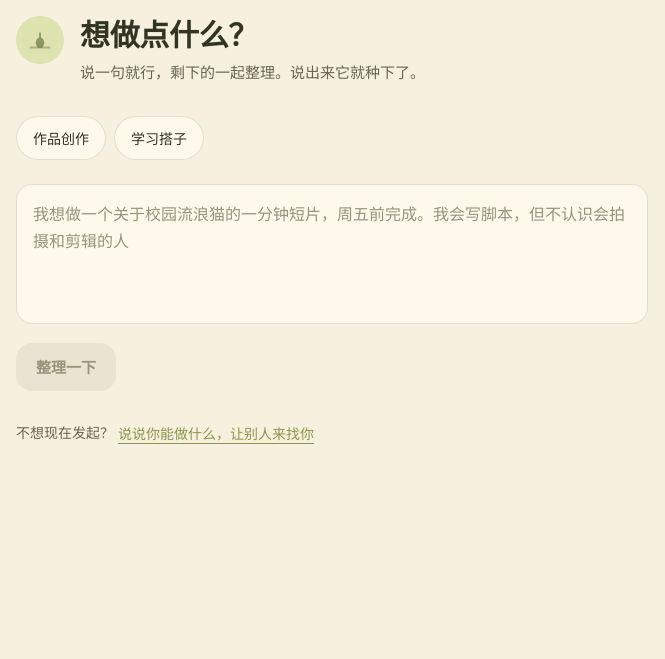
整理出来的卡片 › 点场景卡就直接整理出一张可改的卡
The width and height of the screenshot is (665, 659).
Click the button "作品创作": (61, 138) [16,116,106,160]
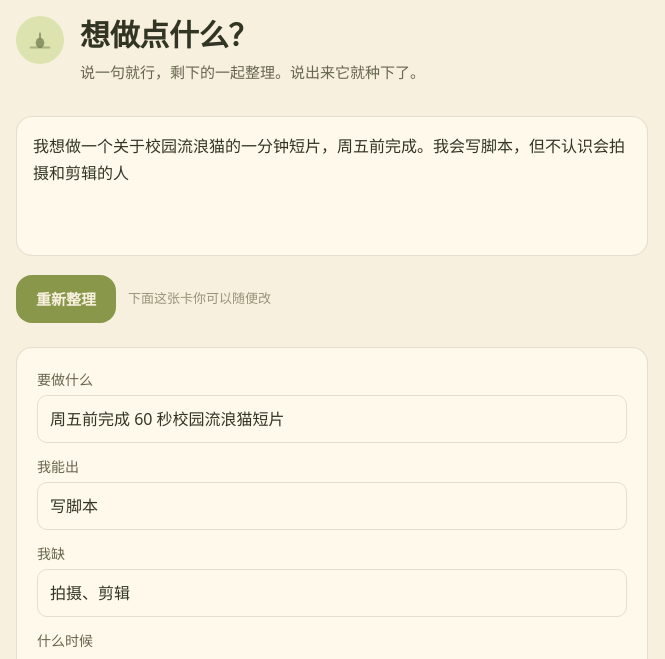
expect the field showing "周五前完成 60 秒校园流浪猫短片" is shown: met, box [37,395,627,443]
expect the field showing "拍摄、剪辑" is shown: met, box [37,570,627,618]
